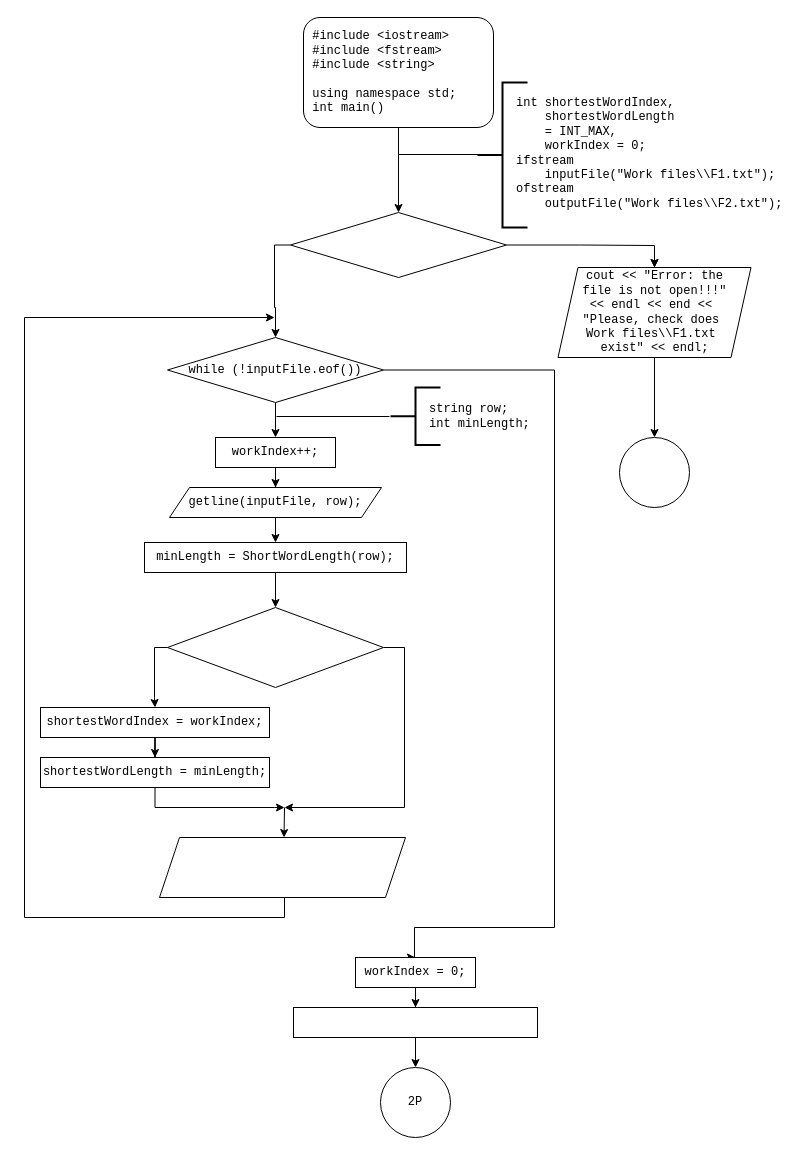
The diagram is 812 pixels wide and 1155 high, and some of its shapes have lost their labels. Here are the shapes that lost their labels. From the top down, the centre of each, then its label:
point (398, 245): if (inputFile.is_open())
point (654, 472): Err
point (275, 647): if (minLength < shortestWordLength)
point (282, 867): cout << "row #" << workIndex << ": \"" << row << "\": " << minLength << endl;
point (415, 1022): inputFile.seekg(ios_base::beg);
